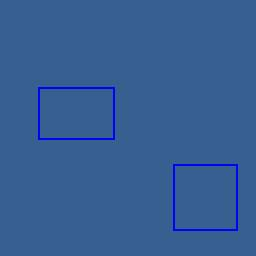Person: (172, 163, 237, 230), (38, 87, 114, 139)
